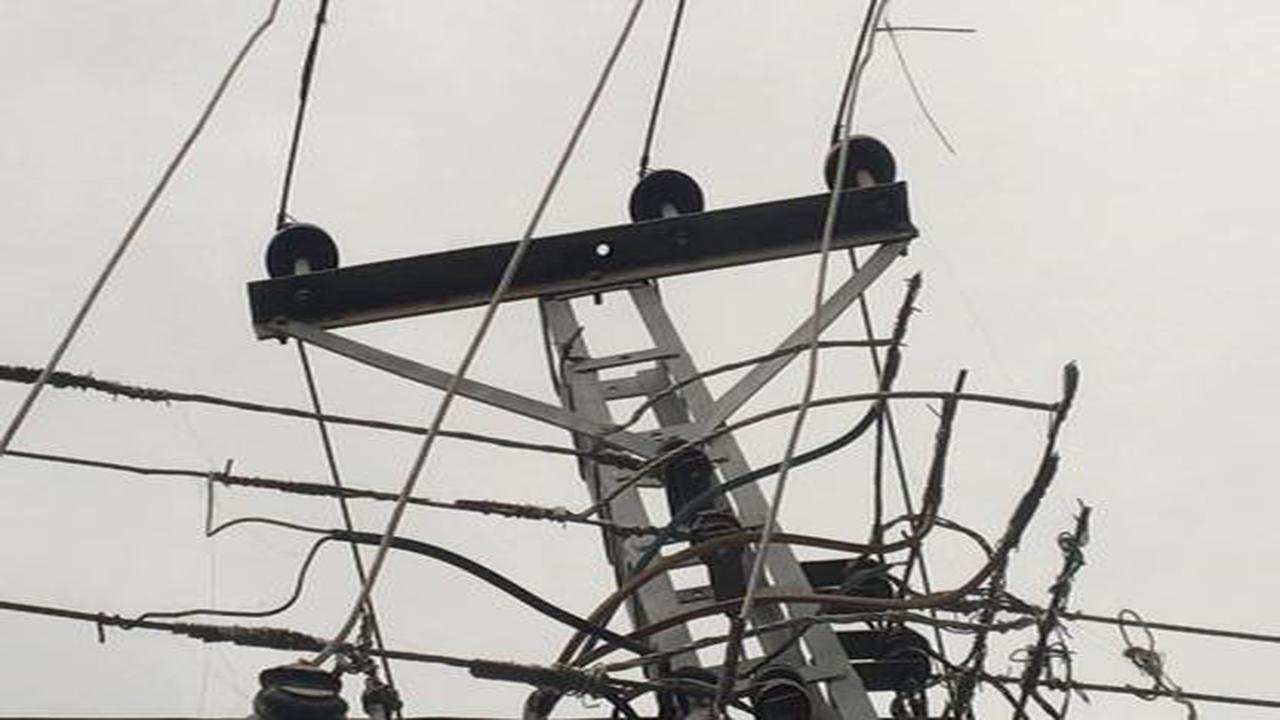insulator_pin: (625, 166, 714, 224), (263, 220, 342, 276), (822, 138, 899, 189)
